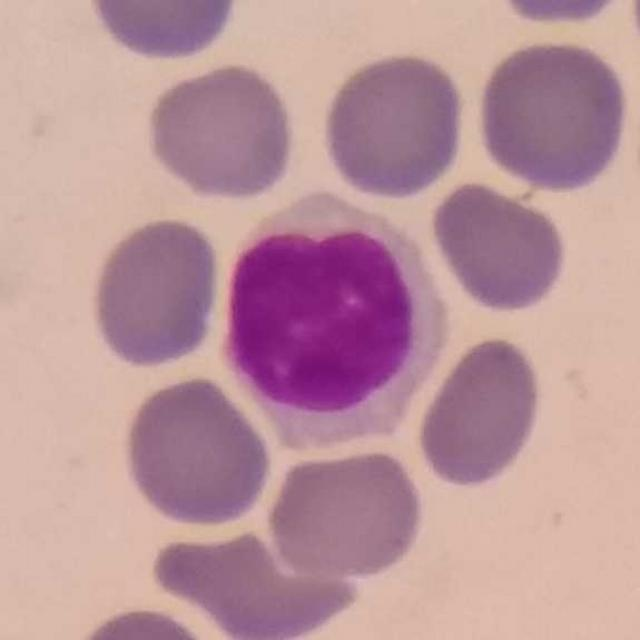Lymphocyte: (209, 178, 452, 454)
RBC: (472, 35, 634, 197), (143, 529, 368, 640), (119, 372, 276, 531), (317, 46, 471, 202), (140, 59, 301, 205), (262, 444, 428, 584), (85, 211, 226, 373), (412, 332, 548, 492), (426, 177, 574, 317), (83, 0, 246, 66), (62, 602, 225, 640), (484, 0, 636, 30)
